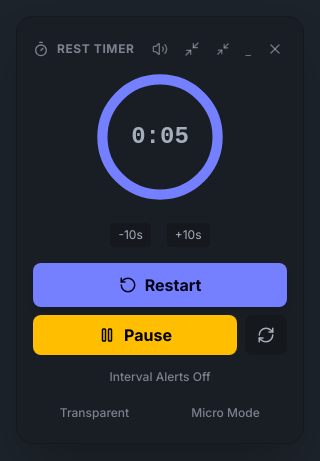
Test: RestTimer › should allow negative seconds (overrun)
Click the button "-10s" at point(131, 235), box x1=110 y1=223 x2=151 y2=247
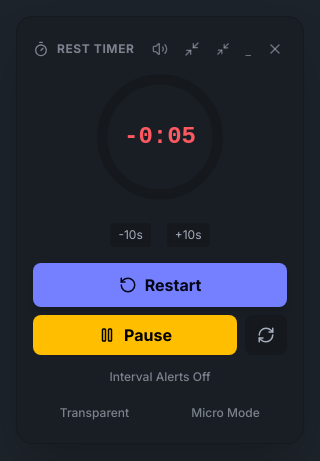
Check: the text "-0:05" is shown, box x1=124 y1=121 x2=196 y2=153
